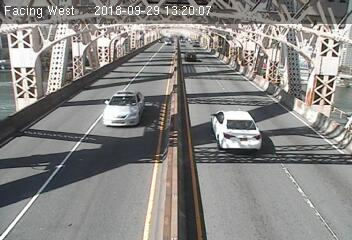car: (207, 110, 263, 152), (100, 88, 147, 131), (183, 51, 199, 63)
